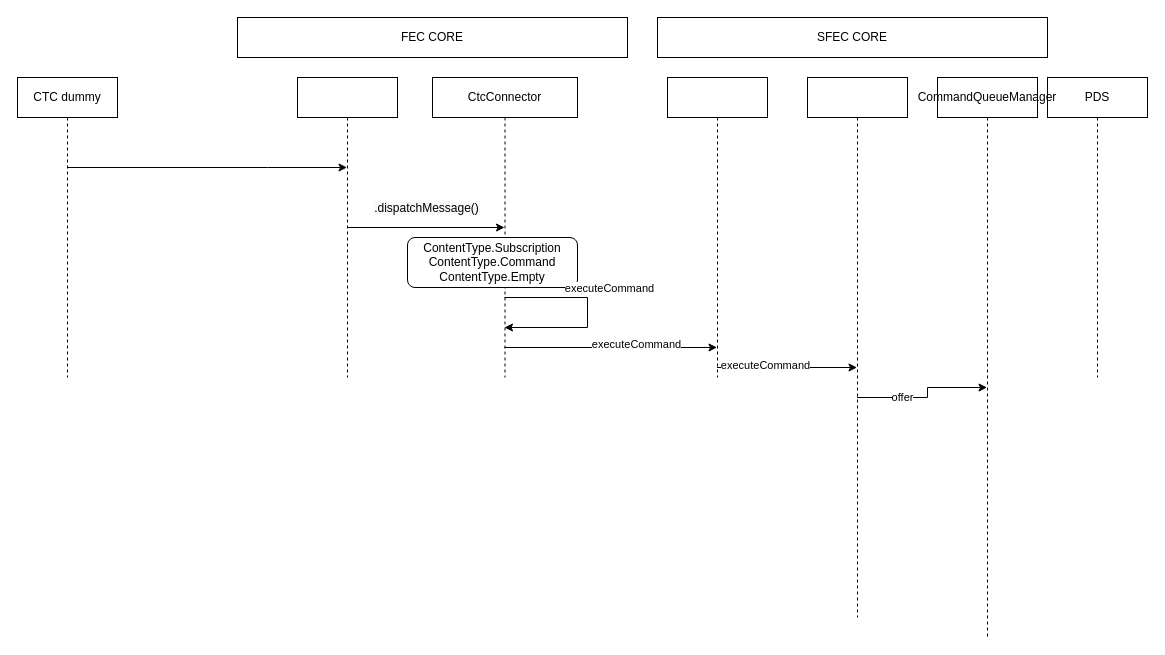
Some shapes in this 1165 by 655 pixel diagram are drawn without their labels. Each missing label, with the box of its shape:
Channel Processor: (296, 76, 398, 378)
ProtocolManager: (806, 76, 908, 618)
SPIOperationENCE: (666, 76, 768, 378)
